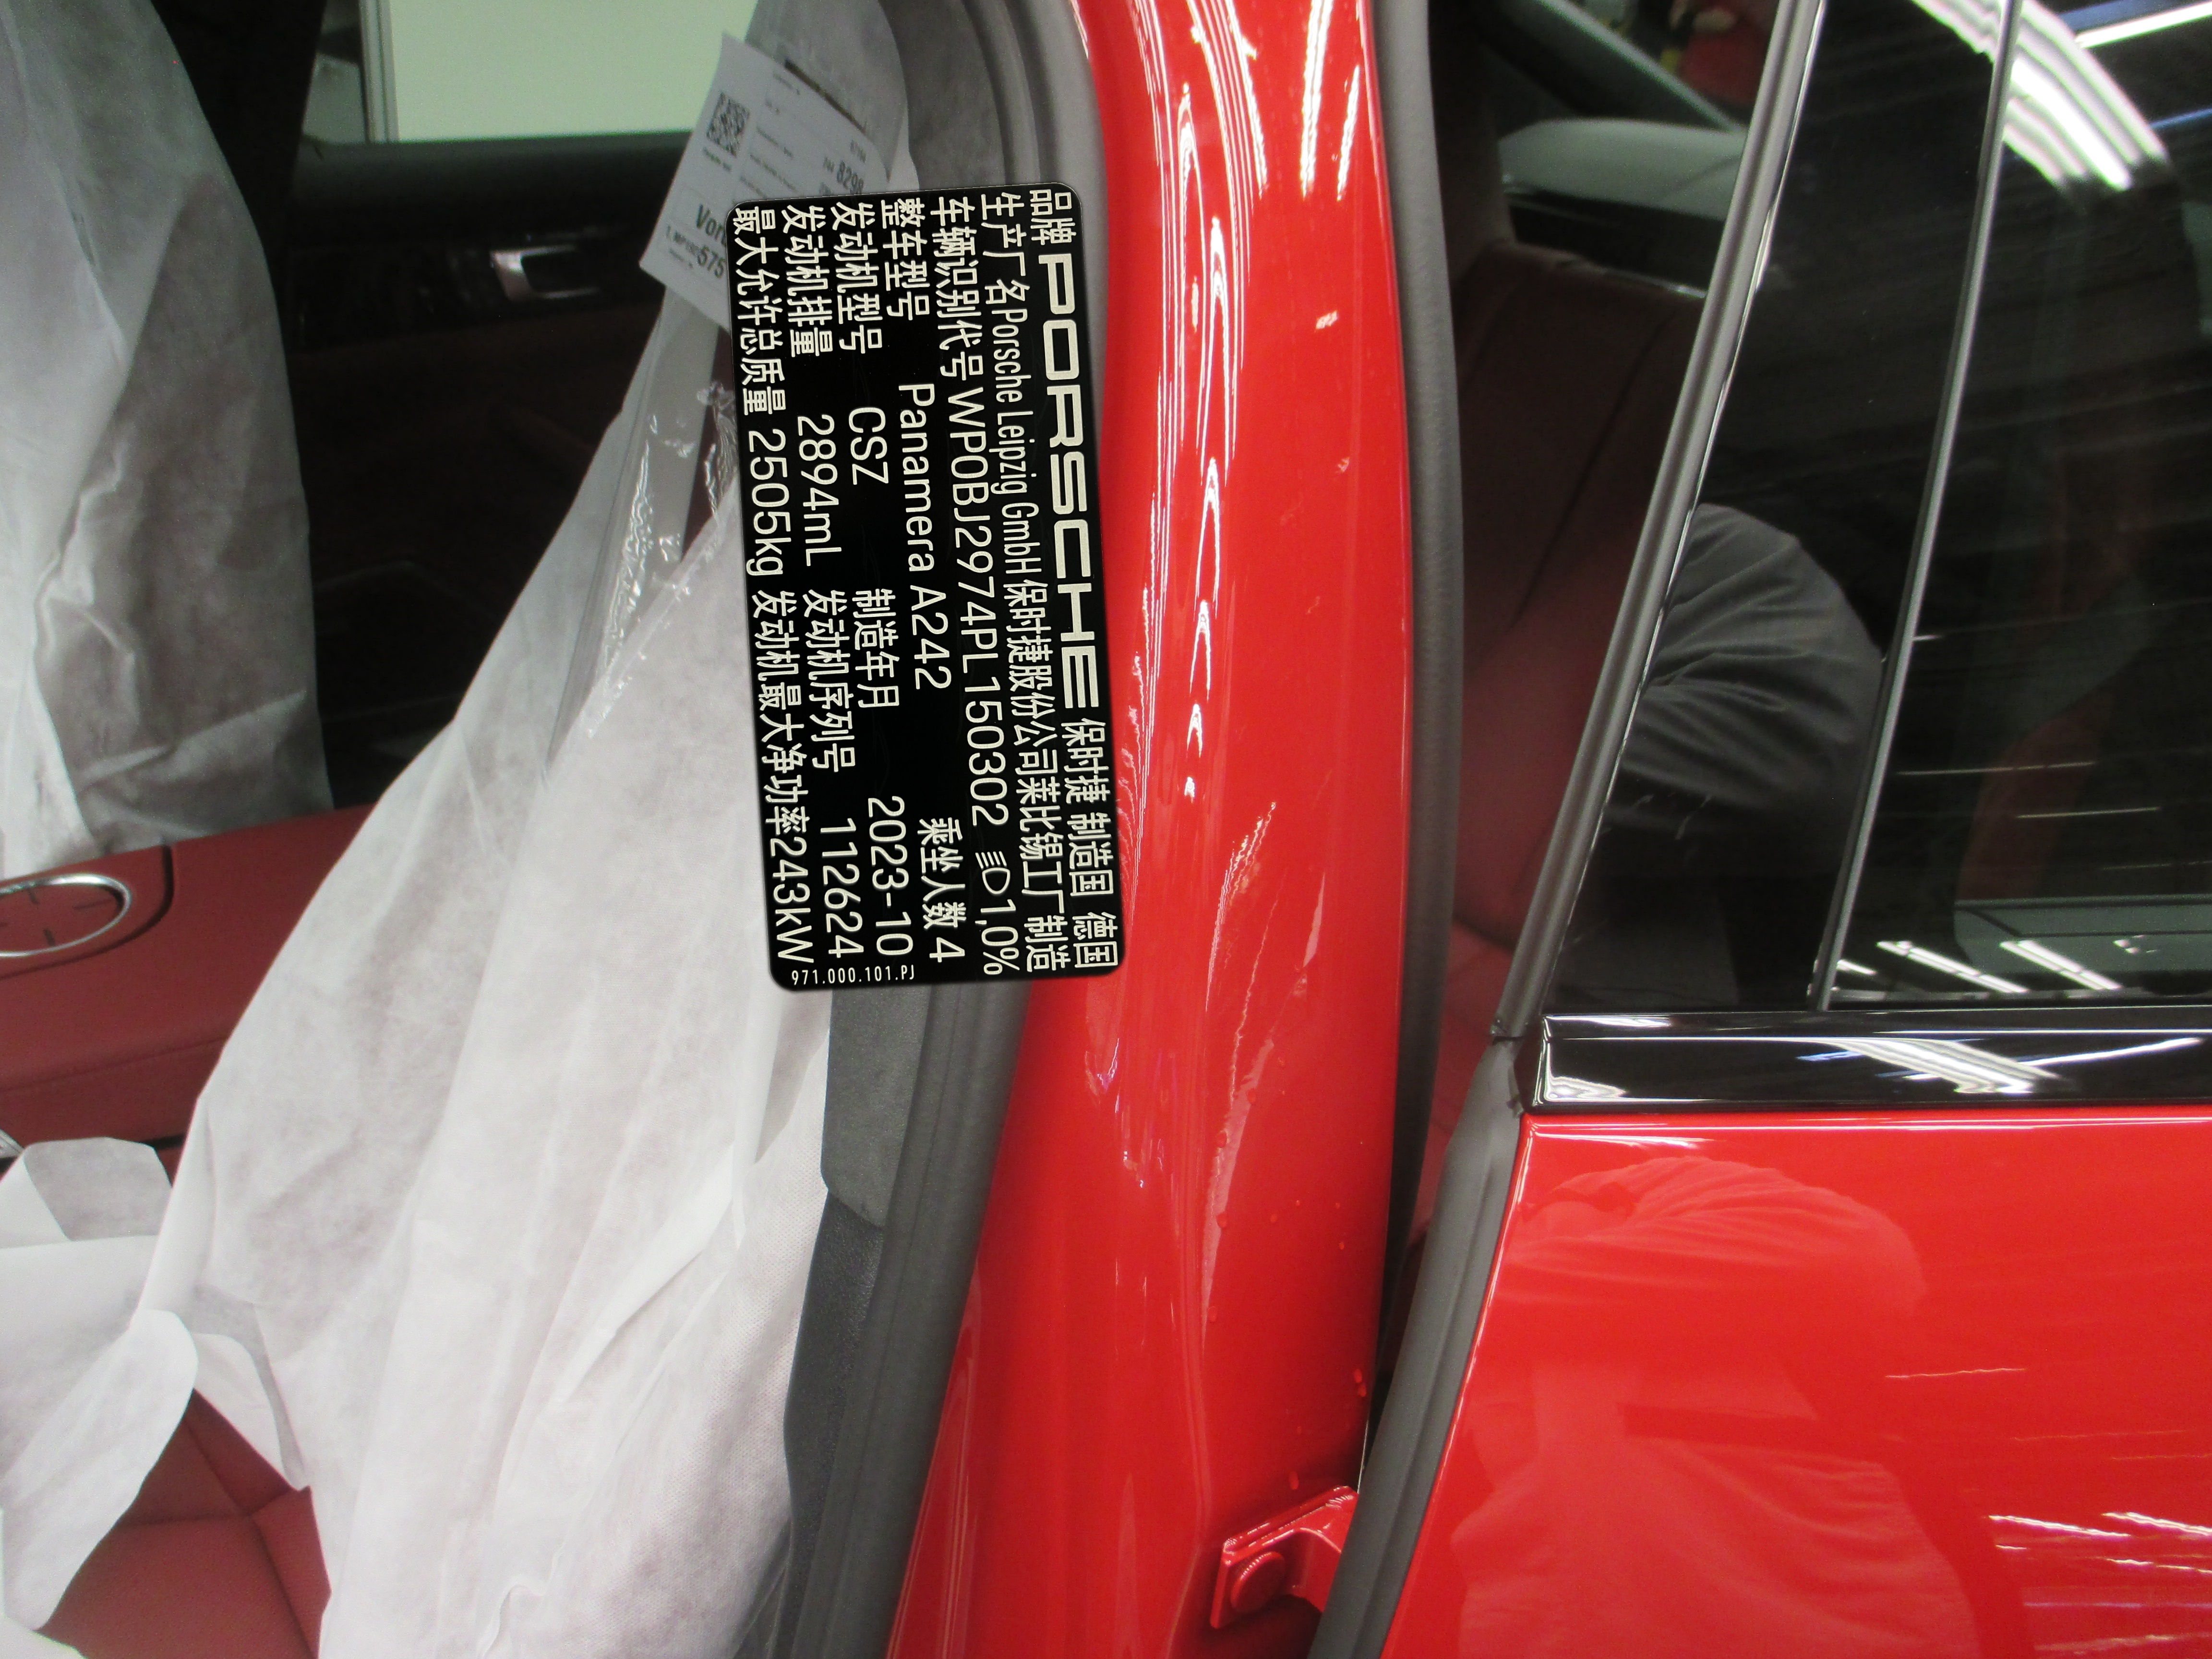Typlabel-China: (725, 183, 1123, 992)
